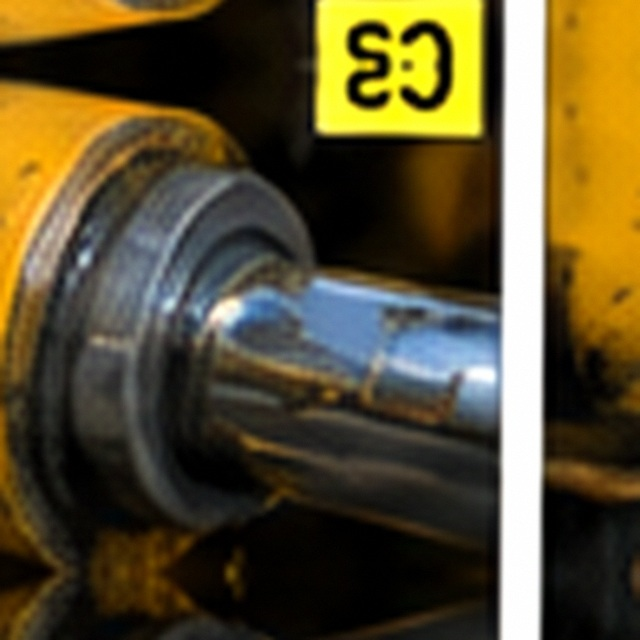hydraulic_oil_leak: (166, 226, 440, 438)
